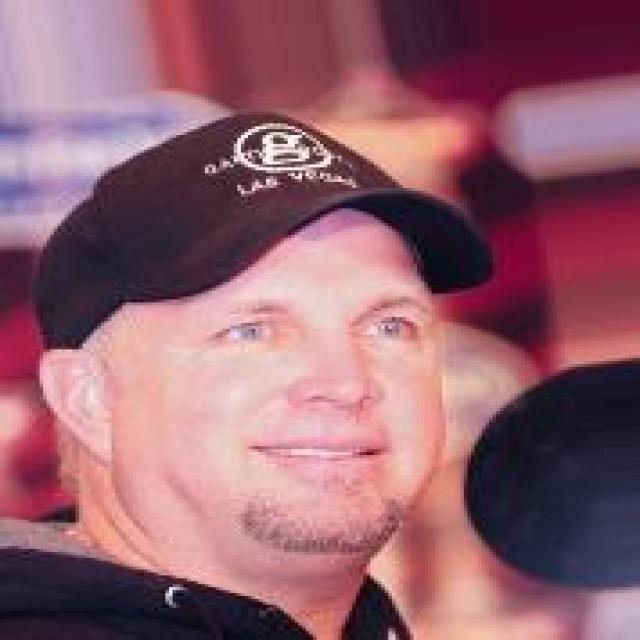nomask: (54, 108, 510, 570)
